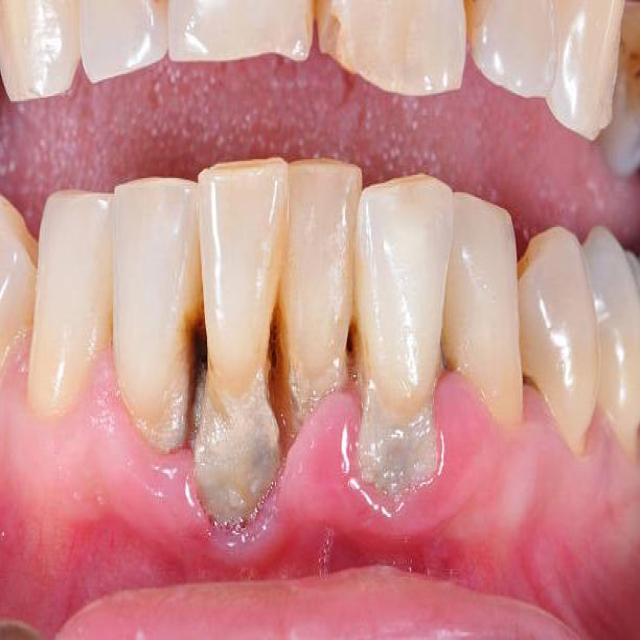Gingivitis: (286, 512, 468, 574)
